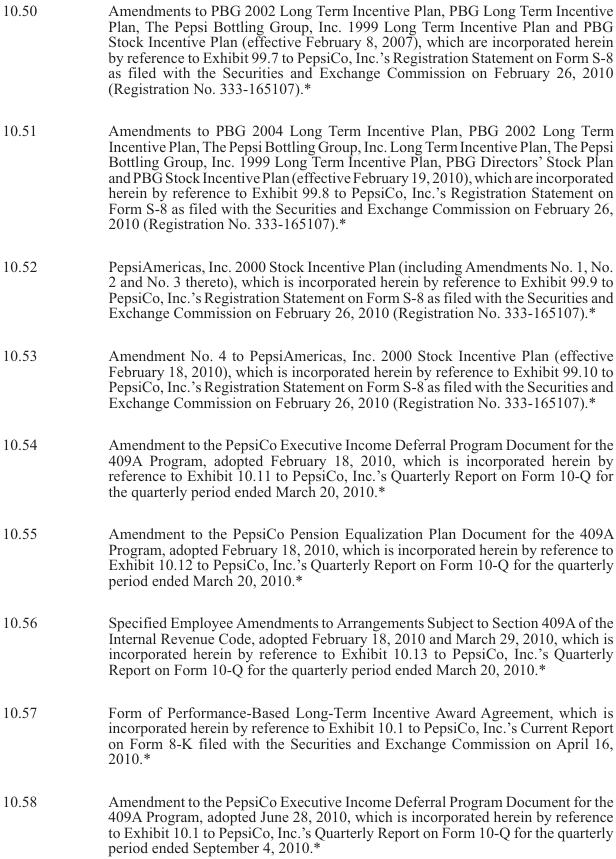table: (1, 1, 613, 855)
table column: (71, 1, 613, 855), (1, 1, 71, 855)
table row: (1, 108, 613, 244), (1, 1, 613, 108), (1, 689, 613, 779), (1, 244, 613, 333), (1, 333, 613, 422), (1, 422, 613, 511), (1, 511, 613, 600), (1, 600, 613, 689), (1, 779, 613, 855)
